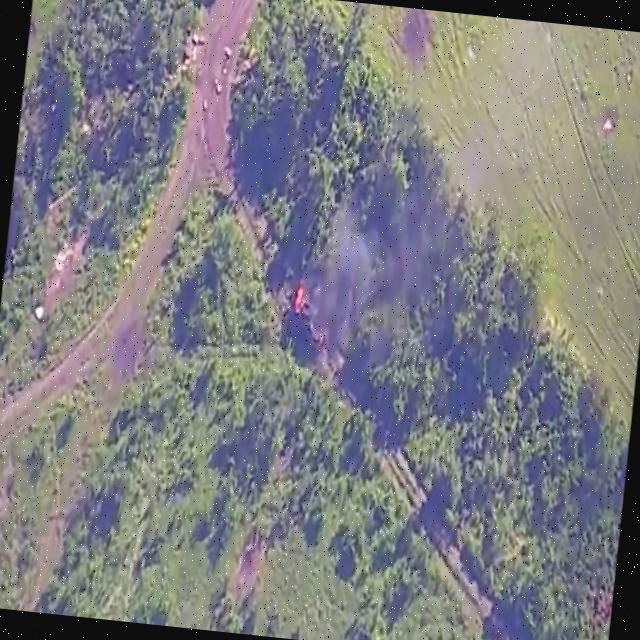Destroyed: (287, 284, 333, 355)
